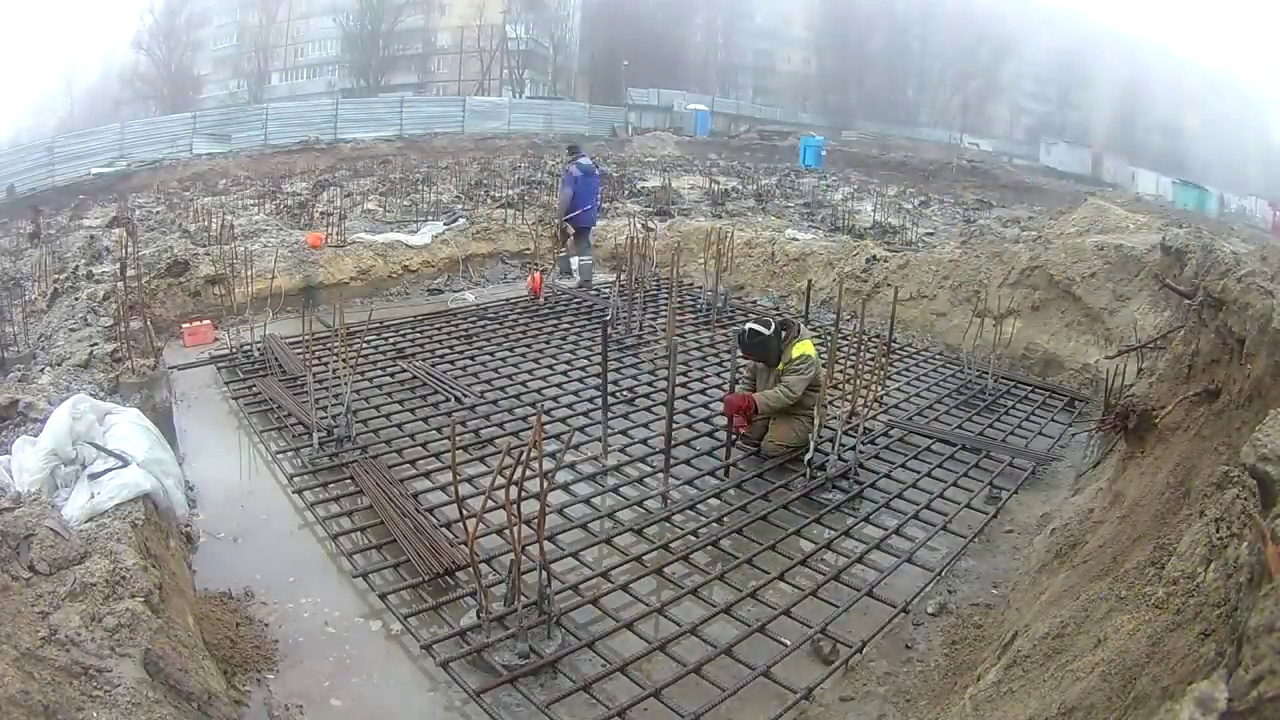helmet: (528, 270, 543, 301), (305, 232, 323, 250)
helmet-off: (737, 316, 795, 369), (565, 142, 582, 161)
person: (724, 316, 824, 461), (553, 142, 605, 283)
